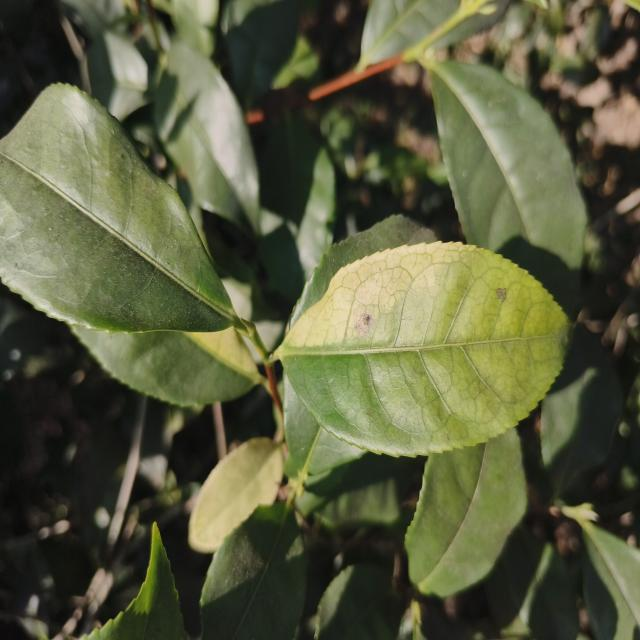Leaf: (276, 242, 570, 456), (0, 84, 235, 332), (431, 61, 587, 310), (154, 39, 261, 232), (405, 429, 527, 598), (290, 215, 436, 328), (72, 326, 266, 406), (200, 503, 307, 640), (258, 116, 335, 301), (541, 327, 623, 499), (87, 523, 186, 640), (189, 437, 284, 553), (563, 503, 640, 640), (283, 374, 365, 476), (221, 0, 298, 108), (505, 527, 578, 640), (315, 563, 402, 640), (360, 0, 460, 65), (88, 31, 148, 120), (169, 0, 219, 56), (464, 0, 508, 34)
